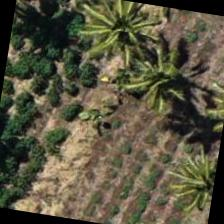Kelapa_Sawit: (110, 29, 213, 132), (72, 0, 173, 76), (149, 132, 221, 223)
